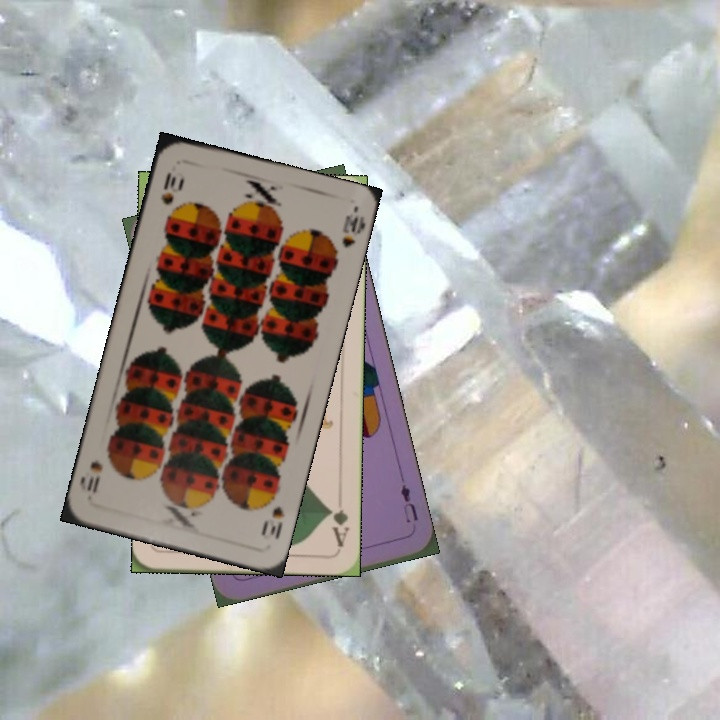EU: (396, 479, 421, 526)
GA: (325, 502, 351, 549)
S10: (257, 487, 287, 542), (156, 167, 185, 207)
